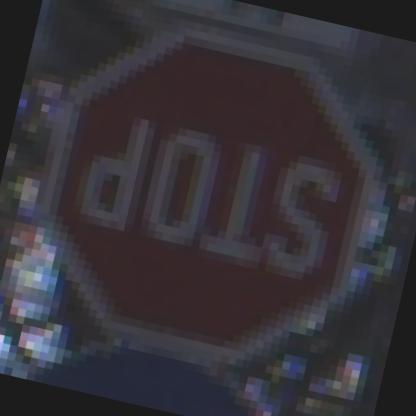stop: (4, 0, 415, 391)
